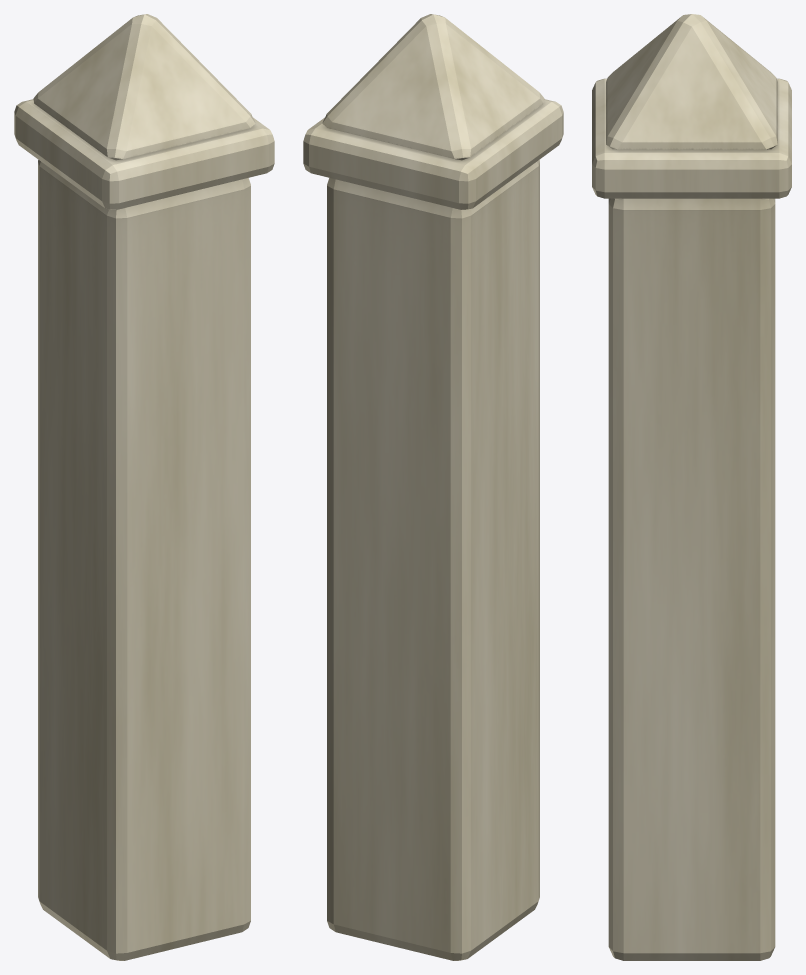
The model's file is white_picket_post.glb.
3 renders of one model, left to right at view 1: azimuth 30°, elevation 25°; view 2: azimuth 150°, elevation 25°; view 3: azimuth 270°, elevation 25°, orthographic.
Visible parts, largest first — view 1: white_picket_post; view 2: white_picket_post; view 3: white_picket_post.
Part boxes in pixels (x1,y1,x2,y2): white_picket_post: [14, 14, 274, 960]; white_picket_post: [303, 14, 563, 960]; white_picket_post: [592, 14, 791, 960].
Bounding box in the file's own units: 0.24 × 1.21 × 0.24.
Materials: 1 (1 with a texture image).
